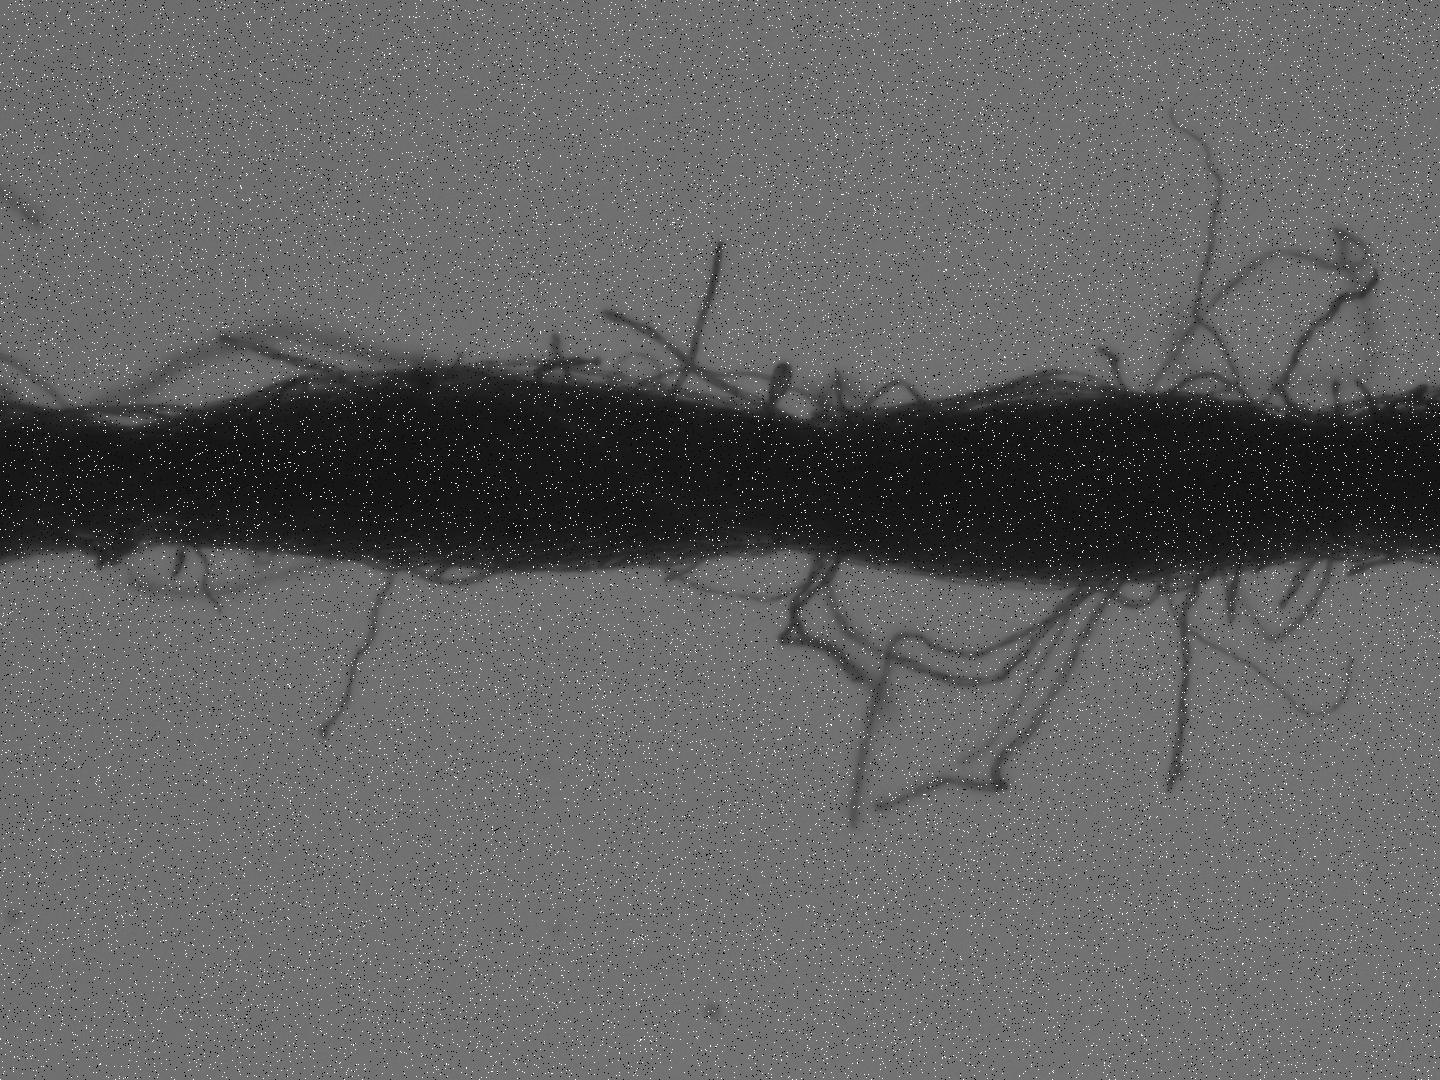loop_fiber: (827, 550, 1096, 687), (649, 533, 833, 610), (388, 535, 571, 592), (954, 368, 1127, 413), (1079, 556, 1223, 608), (1160, 365, 1274, 425), (857, 372, 943, 436), (54, 395, 193, 430), (757, 353, 801, 434), (260, 373, 315, 412)
protruding_fiber: (315, 549, 405, 740), (664, 237, 725, 396)
